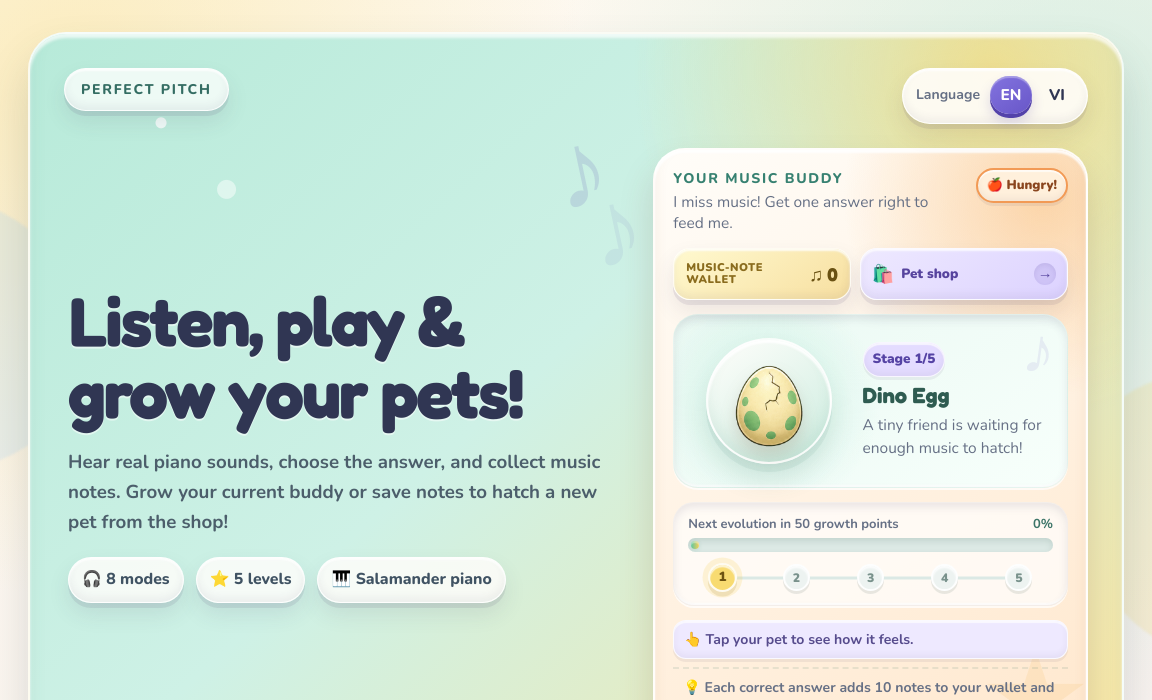
Test: PerfectPitchApp › shows a visible message when the dinosaur voice cannot start
The image size is (1152, 700).
Click the button named "Tap the pet for a reaction".
click(769, 401)  # box [699, 331, 839, 471]
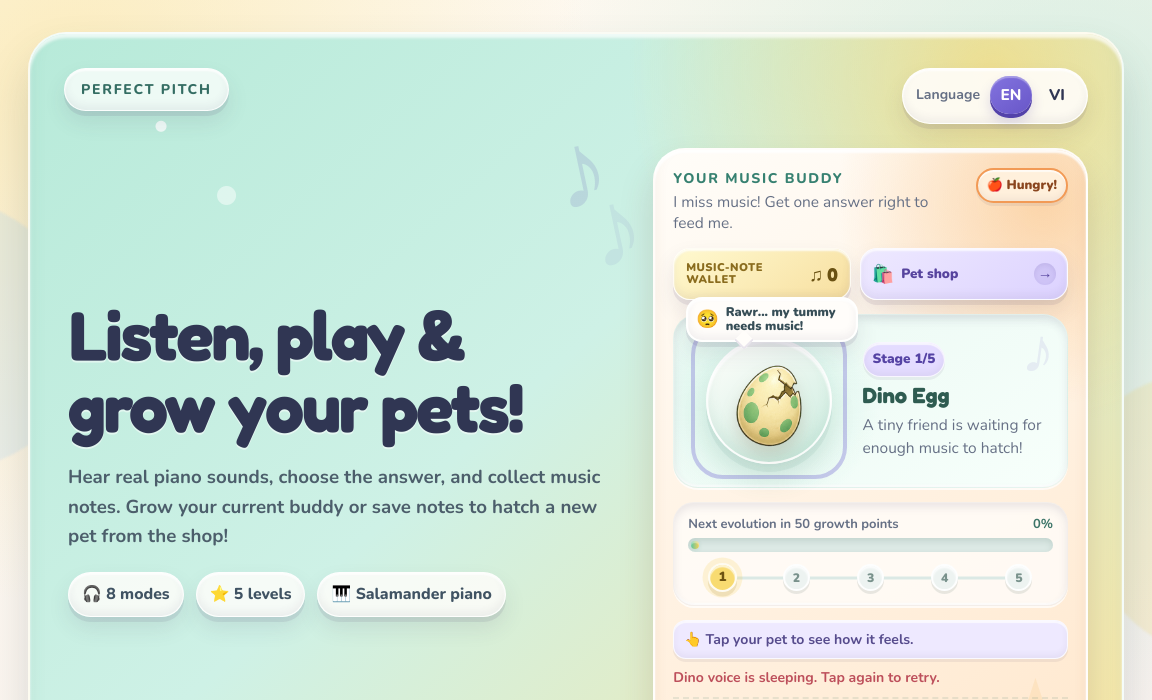
Expected: the message "Dino voice is sleeping. Tap again to retry." is shown, [673, 668, 940, 687]
